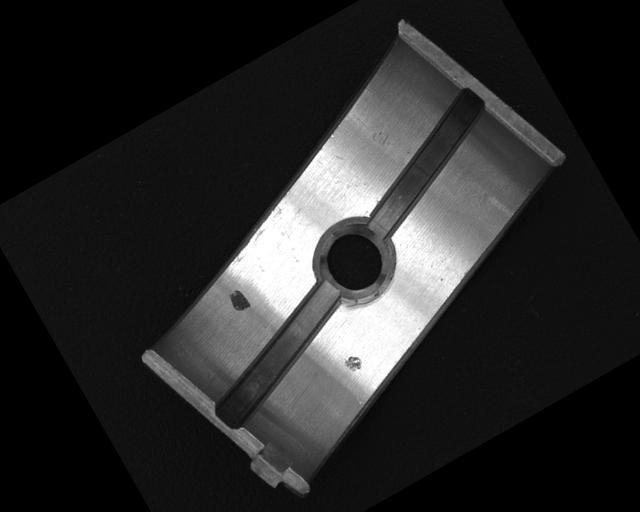blot: (225, 286, 253, 316)
bruise: (341, 351, 366, 376)
gap: (184, 274, 372, 434), (331, 85, 518, 244)
hole: (307, 214, 404, 314)
